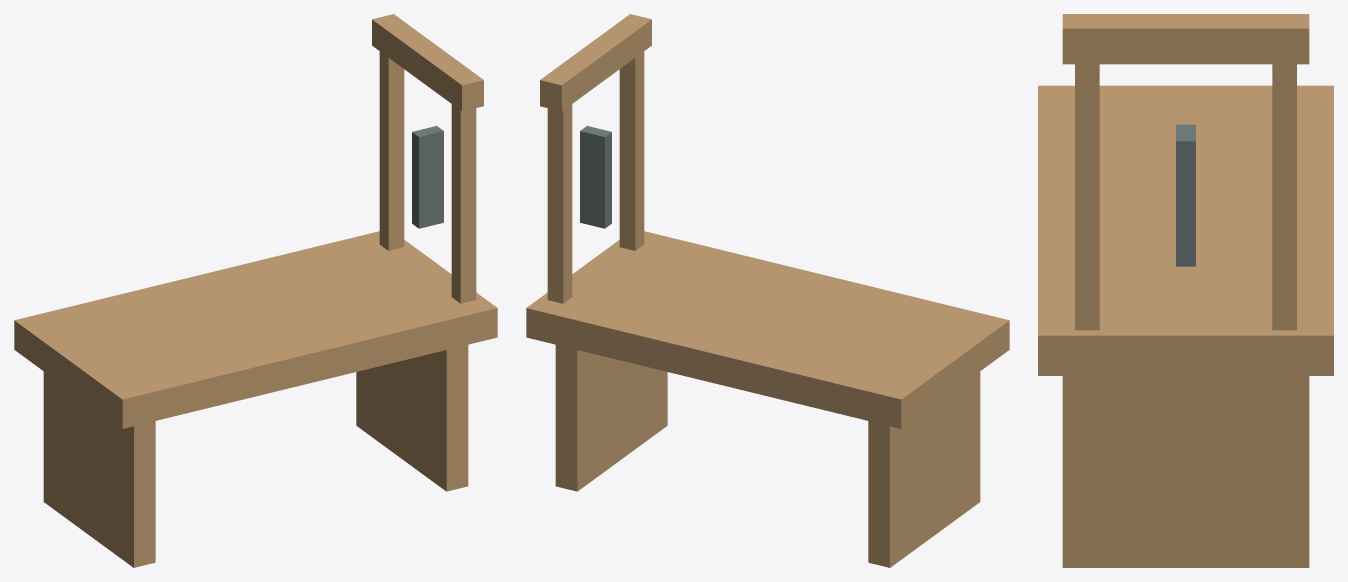
The model's file is shearing-stand.glb.
3 views of the same model, side by side, from view 1: azimuth 30°, elevation 25°; view 2: azimuth 150°, elevation 25°; view 3: azimuth 270°, elevation 25° (orthographic). The views are drawn at different scales.
Visible parts, largest first — view 1: shearing-stand; view 2: shearing-stand; view 3: shearing-stand.
Boxes of the visible parts, <box> form: shearing-stand: <box>14,14,497,567</box>; shearing-stand: <box>526,14,1009,567</box>; shearing-stand: <box>1038,14,1333,567</box>.
Size of the model in its own units: 1.2 by 1.23 by 0.6.
